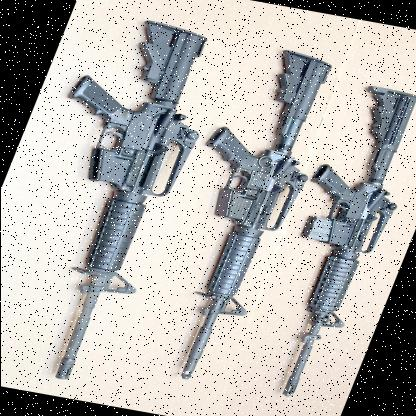rifle: (0, 11, 245, 387), (119, 43, 353, 386), (232, 82, 416, 402)
